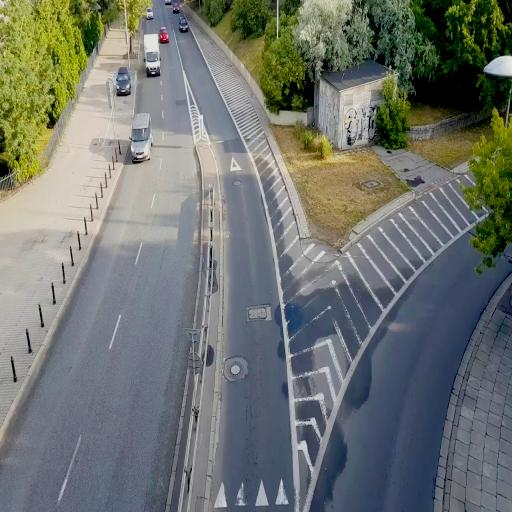vehicle: (139, 13, 162, 77), (130, 112, 152, 162), (142, 25, 162, 76), (114, 68, 132, 95), (158, 26, 169, 44), (177, 16, 188, 33)
